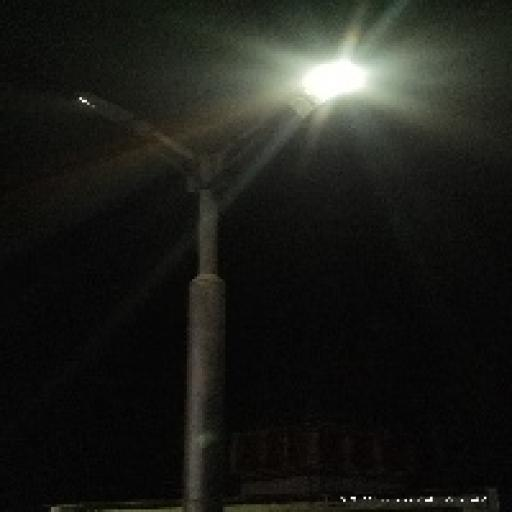Not Working: (67, 84, 141, 132)
Working: (282, 55, 382, 116)
